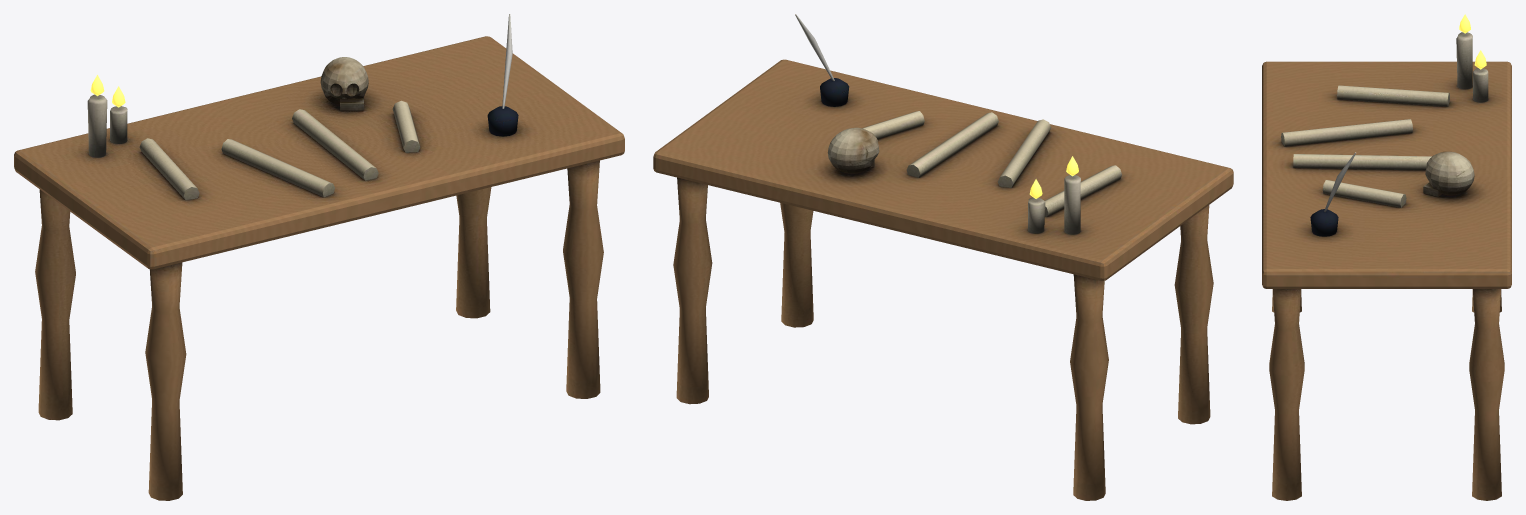
File: dg_mesa_estudo.glb
3 renders of one model, left to right at view 1: azimuth 30°, elevation 25°; view 2: azimuth 150°, elevation 25°; view 3: azimuth 270°, elevation 25°, orthographic. The views are drawn at different scales.
Parts seen in each view (by area): view 1: dg_mesa_estudo_tronco; view 2: dg_mesa_estudo_tronco; view 3: dg_mesa_estudo_tronco.
Boxes of the visible parts, x1,y1,x2,y2 form: dg_mesa_estudo_tronco: (14,14,624,500); dg_mesa_estudo_tronco: (653,14,1233,500); dg_mesa_estudo_tronco: (1262,32,1511,500).
Size of the model in its own units: 1.6 by 1.15 by 0.8.
3 materials, 1 textured.
